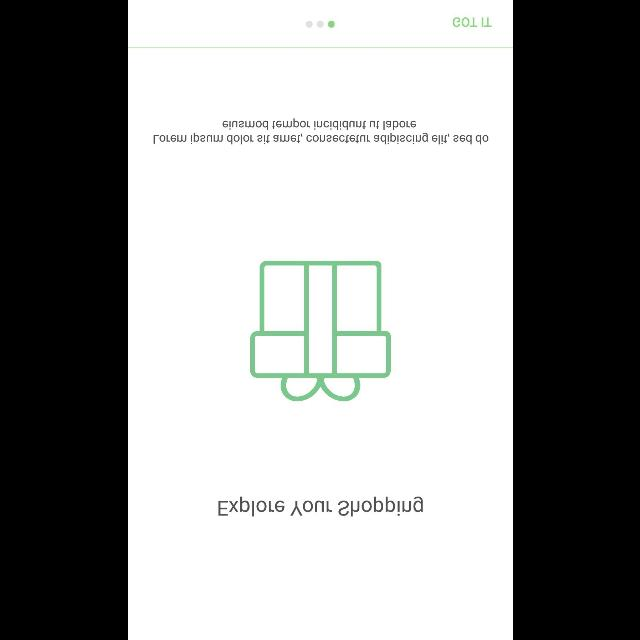image: (250, 260, 390, 402)
pageindicator: (306, 20, 334, 28)
text: (152, 118, 488, 144), (218, 496, 422, 516), (452, 16, 492, 28)
